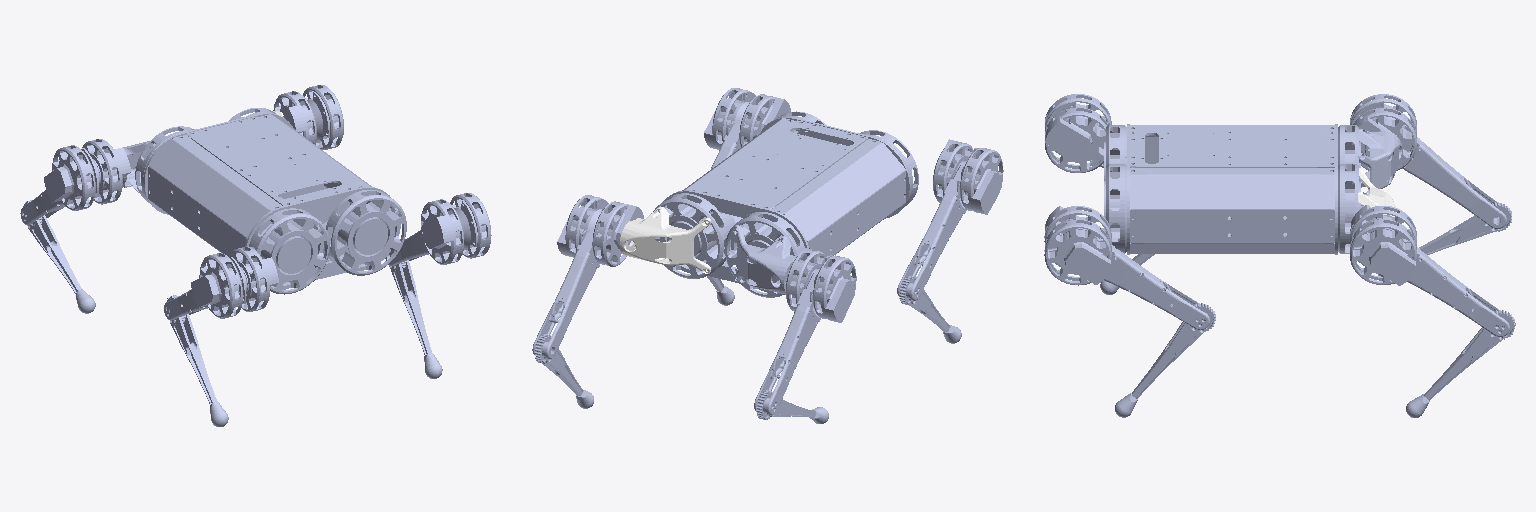
The robot description file, URDF, robot "Cheetah":
<?xml version="1.0" encoding="utf-8"?>
<!-- This URDF was automatically created by SolidWorks to URDF Exporter! Originally created by [author] ([email redacted]) 
     Commit Version: 1.5.1-0-g916b5db  Build Version: 1.5.7152.31018
     For more information, please see http://wiki.ros.org/sw_urdf_exporter -->
<robot
  name="Cheetah">
  <link
    name="base_link">
    <inertial>
      <origin
        xyz="0.0079191 -0.1784 -0.25471"
        rpy="0 0 0" />
      <mass
        value="6.9125E-06" />
      <inertia
        ixx="7.0792E-07"
        ixy="-4.6542E-09"
        ixz="3.5435E-09"
        iyy="1.2812E-06"
        iyz="-2.2445E-08"
        izz="5.7633E-07" />
    </inertial>
    <visual>
      <origin
        xyz="0 0 0"
        rpy="0 0 0" />
      <geometry>
        <mesh
          filename="package://Cheetah/meshes/base_link.STL" />
      </geometry>
      <material
        name="">
        <color
          rgba="0.79216 0.81961 0.93333 1" />
      </material>
    </visual>
    <collision>
      <origin
        xyz="0 0 0"
        rpy="0 0 0" />
      <geometry>
        <mesh
          filename="package://Cheetah/meshes/base_link.STL" />
      </geometry>
    </collision>
  </link>
  <link
    name="Shoulder_1">
    <inertial>
      <origin
        xyz="-0.581506480977278 0.20423053287058 0.181374939659368"
        rpy="0 0 0" />
      <mass
        value="6.91245341957363E-06" />
      <inertia
        ixx="5.76327494791021E-07"
        ixy="-3.54350257196885E-09"
        ixz="2.24450358978102E-08"
        iyy="7.07919613126503E-07"
        iyz="-4.6541510718604E-09"
        izz="1.28124715505522E-06" />
    </inertial>
    <visual>
      <origin
        xyz="0 0 0"
        rpy="0 0 0" />
      <geometry>
        <mesh
          filename="package://Cheetah/meshes/Shoulder_1.STL" />
      </geometry>
      <material
        name="">
        <color
          rgba="0.792156862745098 0.819607843137255 0.933333333333333 1" />
      </material>
    </visual>
    <collision>
      <origin
        xyz="0 0 0"
        rpy="0 0 0" />
      <geometry>
        <mesh
          filename="package://Cheetah/meshes/Shoulder_1.STL" />
      </geometry>
    </collision>
  </link>
  <joint
    name="S1"
    type="fixed">
    <origin
      xyz="0.21215 -0.3268 0.0029778"
      rpy="3.1416 0 -1.5708" />
    <parent
      link="base_link" />
    <child
      link="Shoulder_1" />
    <axis
      xyz="0 0 0" />
  </joint>
  <link
    name="Leg_1">
    <inertial>
      <origin
        xyz="-0.313121167918053 -0.0840470020508393 -7.21367410250195E-14"
        rpy="0 0 0" />
      <mass
        value="7.10635958497128E-07" />
      <inertia
        ixx="4.54533556595649E-11"
        ixy="3.477390663554E-27"
        ixz="-5.49299625523495E-26"
        iyy="9.09055269258654E-11"
        iyz="4.22953164293911E-27"
        izz="4.54533556595647E-11" />
    </inertial>
    <visual>
      <origin
        xyz="0 0 0"
        rpy="0 0 0" />
      <geometry>
        <mesh
          filename="package://Cheetah/meshes/Leg_1.STL" />
      </geometry>
      <material
        name="">
        <color
          rgba="0.792156862745098 0.819607843137255 0.933333333333333 1" />
      </material>
    </visual>
    <collision>
      <origin
        xyz="0 0 0"
        rpy="0 0 0" />
      <geometry>
        <mesh
          filename="package://Cheetah/meshes/Leg_1.STL" />
      </geometry>
    </collision>
  </link>
  <joint
    name="L1"
    type="revolute">
    <origin
      xyz="0 0 0"
      rpy="0 0.57745 0" />
    <parent
      link="Shoulder_1" />
    <child
      link="Leg_1" />
    <axis
      xyz="0 1 0" />
    <limit
      lower="0"
      upper="0"
      effort="0"
      velocity="0" />
  </joint>
  <link
    name="Foot_1">
    <inertial>
      <origin
        xyz="1.22230288741587E-05 -0.0331708839529164 -0.000114259958520879"
        rpy="0 0 0" />
      <mass
        value="1.0174773963961E-06" />
      <inertia
        ixx="1.33410968543908E-10"
        ixy="-4.91589432613722E-14"
        ixz="-1.69332202138811E-16"
        iyy="2.66818604044167E-10"
        iyz="4.59534120043545E-13"
        izz="1.33412533334235E-10" />
    </inertial>
    <visual>
      <origin
        xyz="0 0 0"
        rpy="0 0 0" />
      <geometry>
        <mesh
          filename="package://Cheetah/meshes/Foot_1.STL" />
      </geometry>
      <material
        name="">
        <color
          rgba="0.792156862745098 0.819607843137255 0.933333333333333 1" />
      </material>
    </visual>
    <collision>
      <origin
        xyz="0 0 0"
        rpy="0 0 0" />
      <geometry>
        <mesh
          filename="package://Cheetah/meshes/Foot_1.STL" />
      </geometry>
    </collision>
  </link>
  <joint
    name="F1"
    type="revolute">
    <origin
      xyz="-0.31312 -0.050776 0"
      rpy="-0.0034728 0.076357 -0.00036956" />
    <parent
      link="Leg_1" />
    <child
      link="Foot_1" />
    <axis
      xyz="0.00036848 -0.99999 -0.0034446" />
    <limit
      lower="0"
      upper="0"
      effort="0"
      velocity="0" />
  </joint>
  <link
    name="Shoulder_2">
    <inertial>
      <origin
        xyz="-0.581506480977278 -0.220068696429443 0.181936063780987"
        rpy="0 0 0" />
      <mass
        value="6.91245341957363E-06" />
      <inertia
        ixx="5.76327494791021E-07"
        ixy="-3.54350257196885E-09"
        ixz="2.24450358978102E-08"
        iyy="7.07919613126503E-07"
        iyz="-4.6541510718604E-09"
        izz="1.28124715505522E-06" />
    </inertial>
    <visual>
      <origin
        xyz="0 0 0"
        rpy="0 0 0" />
      <geometry>
        <mesh
          filename="package://Cheetah/meshes/Shoulder_2.STL" />
      </geometry>
      <material
        name="">
        <color
          rgba="0.792156862745098 0.819607843137255 0.933333333333333 1" />
      </material>
    </visual>
    <collision>
      <origin
        xyz="0 0 0"
        rpy="0 0 0" />
      <geometry>
        <mesh
          filename="package://Cheetah/meshes/Shoulder_2.STL" />
      </geometry>
    </collision>
  </link>
  <joint
    name="S2"
    type="fixed">
    <origin
      xyz="-0.21215 -0.3268 0.0035389"
      rpy="3.1416 0 -1.5708" />
    <parent
      link="base_link" />
    <child
      link="Shoulder_2" />
    <axis
      xyz="0 0 0" />
  </joint>
  <link
    name="Leg_2">
    <inertial>
      <origin
        xyz="-0.313121167918053 -0.0840470020508394 -3.33066907387547E-16"
        rpy="0 0 0" />
      <mass
        value="7.10635958497131E-07" />
      <inertia
        ixx="4.54533556595656E-11"
        ixy="4.36766645260943E-27"
        ixz="-5.49299625523495E-26"
        iyy="9.09055269258662E-11"
        iyz="-6.31568709729828E-27"
        izz="4.54533556595648E-11" />
    </inertial>
    <visual>
      <origin
        xyz="0 0 0"
        rpy="0 0 0" />
      <geometry>
        <mesh
          filename="package://Cheetah/meshes/Leg_2.STL" />
      </geometry>
      <material
        name="">
        <color
          rgba="0.792156862745098 0.819607843137255 0.933333333333333 1" />
      </material>
    </visual>
    <collision>
      <origin
        xyz="0 0 0"
        rpy="0 0 0" />
      <geometry>
        <mesh
          filename="package://Cheetah/meshes/Leg_2.STL" />
      </geometry>
    </collision>
  </link>
  <joint
    name="L2"
    type="revolute">
    <origin
      xyz="0 0 0"
      rpy="-3.1416 0.58158 0" />
    <parent
      link="Shoulder_2" />
    <child
      link="Leg_2" />
    <axis
      xyz="0 1 0" />
    <limit
      lower="0"
      upper="0"
      effort="0"
      velocity="0" />
  </joint>
  <link
    name="Foot_2">
    <inertial>
      <origin
        xyz="-2.5686918161405E-06 0.00697092177517811 2.40119387236171E-05"
        rpy="0 0 0" />
      <mass
        value="1.01747739639608E-06" />
      <inertia
        ixx="1.33410968543909E-10"
        ixy="-4.91589432612787E-14"
        ixz="-1.69332202707498E-16"
        iyy="2.66818604044169E-10"
        iyz="4.59534120043675E-13"
        izz="1.33412533334236E-10" />
    </inertial>
    <visual>
      <origin
        xyz="0 0 0"
        rpy="0 0 0" />
      <geometry>
        <mesh
          filename="package://Cheetah/meshes/Foot_2.STL" />
      </geometry>
      <material
        name="">
        <color
          rgba="0.792156862745098 0.819607843137255 0.933333333333333 1" />
      </material>
    </visual>
    <collision>
      <origin
        xyz="0 0 0"
        rpy="0 0 0" />
      <geometry>
        <mesh
          filename="package://Cheetah/meshes/Foot_2.STL" />
      </geometry>
    </collision>
  </link>
  <joint
    name="F2"
    type="revolute">
    <origin
      xyz="-0.31312 -0.050076 0"
      rpy="3.1381 -0.22068 0.00037764" />
    <parent
      link="Leg_2" />
    <child
      link="Foot_2" />
    <axis
      xyz="0.00036848 -0.99999 -0.0034446" />
    <limit
      lower="0"
      upper="0"
      effort="0"
      velocity="0" />
  </joint>
  <link
    name="Shoulder_3">
    <inertial>
      <origin
        xyz="-0.0720934965160085 0.220068696429443 0.181374939659368"
        rpy="0 0 0" />
      <mass
        value="6.91245341957363E-06" />
      <inertia
        ixx="5.76327494791021E-07"
        ixy="-3.54350257196885E-09"
        ixz="-2.24450358978102E-08"
        iyy="7.07919613126503E-07"
        iyz="4.65415107186036E-09"
        izz="1.28124715505522E-06" />
    </inertial>
    <visual>
      <origin
        xyz="0 0 0"
        rpy="0 0 0" />
      <geometry>
        <mesh
          filename="package://Cheetah/meshes/Shoulder_3.STL" />
      </geometry>
      <material
        name="">
        <color
          rgba="0.792156862745098 0.819607843137255 0.933333333333333 1" />
      </material>
    </visual>
    <collision>
      <origin
        xyz="0 0 0"
        rpy="0 0 0" />
      <geometry>
        <mesh
          filename="package://Cheetah/meshes/Shoulder_3.STL" />
      </geometry>
    </collision>
  </link>
  <joint
    name="S3"
    type="fixed">
    <origin
      xyz="-0.21215 0.3268 0.0029778"
      rpy="3.1416 0 1.5708" />
    <parent
      link="base_link" />
    <child
      link="Shoulder_3" />
    <axis
      xyz="0 0 0" />
  </joint>
  <link
    name="Leg_3">
    <inertial>
      <origin
        xyz="-0.313121167918053 -0.0840470020508394 -2.77555756156289E-17"
        rpy="0 0 0" />
      <mass
        value="7.10635958497125E-07" />
      <inertia
        ixx="4.54533556595648E-11"
        ixy="-2.08448896583657E-28"
        ixz="8.23949438285242E-26"
        iyy="9.09055269258656E-11"
        iyz="-9.19147402476448E-29"
        izz="4.5453355659565E-11" />
    </inertial>
    <visual>
      <origin
        xyz="0 0 0"
        rpy="0 0 0" />
      <geometry>
        <mesh
          filename="package://Cheetah/meshes/Leg_3.STL" />
      </geometry>
      <material
        name="">
        <color
          rgba="0.792156862745098 0.819607843137255 0.933333333333333 1" />
      </material>
    </visual>
    <collision>
      <origin
        xyz="0 0 0"
        rpy="0 0 0" />
      <geometry>
        <mesh
          filename="package://Cheetah/meshes/Leg_3.STL" />
      </geometry>
    </collision>
  </link>
  <joint
    name="L3"
    type="revolute">
    <origin
      xyz="0 0 0"
      rpy="3.1416 0.67624 3.1416" />
    <parent
      link="Shoulder_3" />
    <child
      link="Leg_3" />
    <axis
      xyz="0 1 0" />
    <limit
      lower="0"
      upper="0"
      effort="0"
      velocity="0" />
  </joint>
  <link
    name="Foot_3">
    <inertial>
      <origin
        xyz="-2.56869181658459E-06 0.00697092177517811 2.40119387235338E-05"
        rpy="0 0 0" />
      <mass
        value="1.01747739639609E-06" />
      <inertia
        ixx="1.33410968543909E-10"
        ixy="-4.91589432617792E-14"
        ixz="-1.69332201085448E-16"
        iyy="2.66818604044167E-10"
        iyz="4.59534120043267E-13"
        izz="1.33412533334234E-10" />
    </inertial>
    <visual>
      <origin
        xyz="0 0 0"
        rpy="0 0 0" />
      <geometry>
        <mesh
          filename="package://Cheetah/meshes/Foot_3.STL" />
      </geometry>
      <material
        name="">
        <color
          rgba="0.792156862745098 0.819607843137255 0.933333333333333 1" />
      </material>
    </visual>
    <collision>
      <origin
        xyz="0 0 0"
        rpy="0 0 0" />
      <geometry>
        <mesh
          filename="package://Cheetah/meshes/Foot_3.STL" />
      </geometry>
    </collision>
  </link>
  <joint
    name="F3"
    type="revolute">
    <origin
      xyz="-0.31312 -0.050076 0"
      rpy="3.138 -0.42041 0.00040363" />
    <parent
      link="Leg_3" />
    <child
      link="Foot_3" />
    <axis
      xyz="0.00036848 -0.99999 -0.0034446" />
    <limit
      lower="0"
      upper="0"
      effort="0"
      velocity="0" />
  </joint>
  <link
    name="Shoulder_4">
    <inertial>
      <origin
        xyz="0 0 0"
        rpy="0 0 0" />
      <mass
        value="0" />
      <inertia
        ixx="0"
        ixy="0"
        ixz="0"
        iyy="0"
        iyz="0"
        izz="0" />
    </inertial>
    <visual>
      <origin
        xyz="0 0 0"
        rpy="0 0 0" />
      <geometry>
        <mesh
          filename="package://Cheetah/meshes/Shoulder_4.STL" />
      </geometry>
      <material
        name="">
        <color
          rgba="1 1 1 1" />
      </material>
    </visual>
    <collision>
      <origin
        xyz="0 0 0"
        rpy="0 0 0" />
      <geometry>
        <mesh
          filename="package://Cheetah/meshes/Shoulder_4.STL" />
      </geometry>
    </collision>
  </link>
  <joint
    name="S4"
    type="fixed">
    <origin
      xyz="0.21215 0.3268 0.0035389"
      rpy="3.1416 0 1.5708" />
    <parent
      link="base_link" />
    <child
      link="Shoulder_4" />
    <axis
      xyz="0 0 0" />
  </joint>
  <link
    name="Leg_4">
    <inertial>
      <origin
        xyz="-0.313121167918055 -0.0840470020508348 -3.52495810318487E-15"
        rpy="0 0 0" />
      <mass
        value="7.10635958497115E-07" />
      <inertia
        ixx="4.54533556595649E-11"
        ixy="6.61316662624492E-25"
        ixz="8.72417052302021E-26"
        iyy="9.09055269258656E-11"
        iyz="3.89504676538964E-25"
        izz="4.54533556595648E-11" />
    </inertial>
    <visual>
      <origin
        xyz="0 0 0"
        rpy="0 0 0" />
      <geometry>
        <mesh
          filename="package://Cheetah/meshes/Leg_4.STL" />
      </geometry>
      <material
        name="">
        <color
          rgba="0.792156862745098 0.819607843137255 0.933333333333333 1" />
      </material>
    </visual>
    <collision>
      <origin
        xyz="0 0 0"
        rpy="0 0 0" />
      <geometry>
        <mesh
          filename="package://Cheetah/meshes/Leg_4.STL" />
      </geometry>
    </collision>
  </link>
  <joint
    name="L4"
    type="revolute">
    <origin
      xyz="0 0 0"
      rpy="0 0.64285 -3.1416" />
    <parent
      link="Shoulder_4" />
    <child
      link="Leg_4" />
    <axis
      xyz="0 1 0" />
    <limit
      lower="0"
      upper="0"
      effort="0"
      velocity="0" />
  </joint>
  <link
    name="Foor_4">
    <inertial>
      <origin
        xyz="1.22230288743808E-05 -0.0331708839529164 -0.000114259958520768"
        rpy="0 0 0" />
      <mass
        value="1.01747739639607E-06" />
      <inertia
        ixx="1.33410968543907E-10"
        ixy="-4.91589432615305E-14"
        ixz="-1.69332201479652E-16"
        iyy="2.66818604044165E-10"
        iyz="4.59534120043548E-13"
        izz="1.33412533334233E-10" />
    </inertial>
    <visual>
      <origin
        xyz="0 0 0"
        rpy="0 0 0" />
      <geometry>
        <mesh
          filename="package://Cheetah/meshes/Foor_4.STL" />
      </geometry>
      <material
        name="">
        <color
          rgba="0.792156862745098 0.819607843137255 0.933333333333333 1" />
      </material>
    </visual>
    <collision>
      <origin
        xyz="0 0 0"
        rpy="0 0 0" />
      <geometry>
        <mesh
          filename="package://Cheetah/meshes/Foor_4.STL" />
      </geometry>
    </collision>
  </link>
  <joint
    name="F4"
    type="revolute">
    <origin
      xyz="-0.31312 -0.050776 0"
      rpy="-0.0034808 0.098008 -0.00037026" />
    <parent
      link="Leg_4" />
    <child
      link="Foor_4" />
    <axis
      xyz="0.00036848 -0.99999 -0.0034446" />
    <limit
      lower="0"
      upper="0"
      effort="0"
      velocity="0" />
  </joint>
</robot>

--- Facts derived from the render (not from the file) ---
3 views of the same robot in one strip: view 1: azimuth 30°, elevation 25°; view 2: azimuth 150°, elevation 25°; view 3: azimuth 270°, elevation 25° (orthographic).
Robot: Cheetah — 13 links, 12 joints (8 revolute, 4 fixed); root link base_link; default pose: all joints at 0.
Visible links, largest first — view 1: base_link, Leg_3, Leg_2, Leg_1, Leg_4, Foot_2, Foot_1, Foot_3, Shoulder_3; view 2: base_link, Leg_3, Leg_2, Leg_4, Leg_1, Shoulder_4, Shoulder_3, Foor_4, Foot_2, Foot_3; view 3: base_link, Leg_1, Leg_4, Leg_3, Leg_2, Foor_4, Shoulder_3, Foot_1, Foot_3, Shoulder_4.
Link boxes in pixels (x1,y1,x2,y2): base_link: (135,108,406,294); Leg_3: (20,139,130,225); Leg_2: (164,246,278,319); Leg_1: (385,193,491,265); Leg_4: (273,85,343,149); Foot_2: (167,295,228,426); Foot_1: (389,260,442,378); Foot_3: (23,200,95,313); Shoulder_3: (123,141,155,192); base_link: (653,111,918,297); Leg_3: (754,247,856,415); Leg_2: (897,139,1003,300); Leg_4: (532,195,643,358); Leg_1: (704,88,790,168); Shoulder_4: (620,206,710,273); Shoulder_3: (734,225,795,294); Foor_4: (535,334,593,408); Foot_2: (899,276,961,343); Foot_3: (756,390,828,423); base_link: (1104,124,1360,254); Leg_1: (1044,206,1209,329); Leg_4: (1350,205,1509,336); Leg_3: (1350,94,1506,228); Leg_2: (1045,94,1111,172); Foor_4: (1406,310,1515,417); Shoulder_3: (1358,129,1401,207); Foot_1: (1115,303,1215,417); Foot_3: (1378,202,1511,276); Shoulder_4: (1358,168,1396,217).
Size in the robot's own frame: 0.7102 by 1.01 by 0.5052 metres.
11 mesh visuals loaded from 13 distinct referenced files (11 binary STL); not drawn: 2 (reference not matched to a file when rendering).